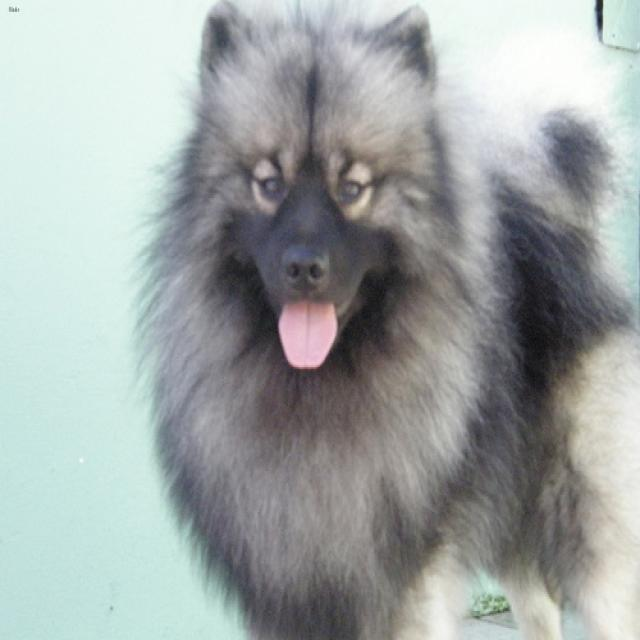dog-keeshond: (129, 2, 637, 637)
